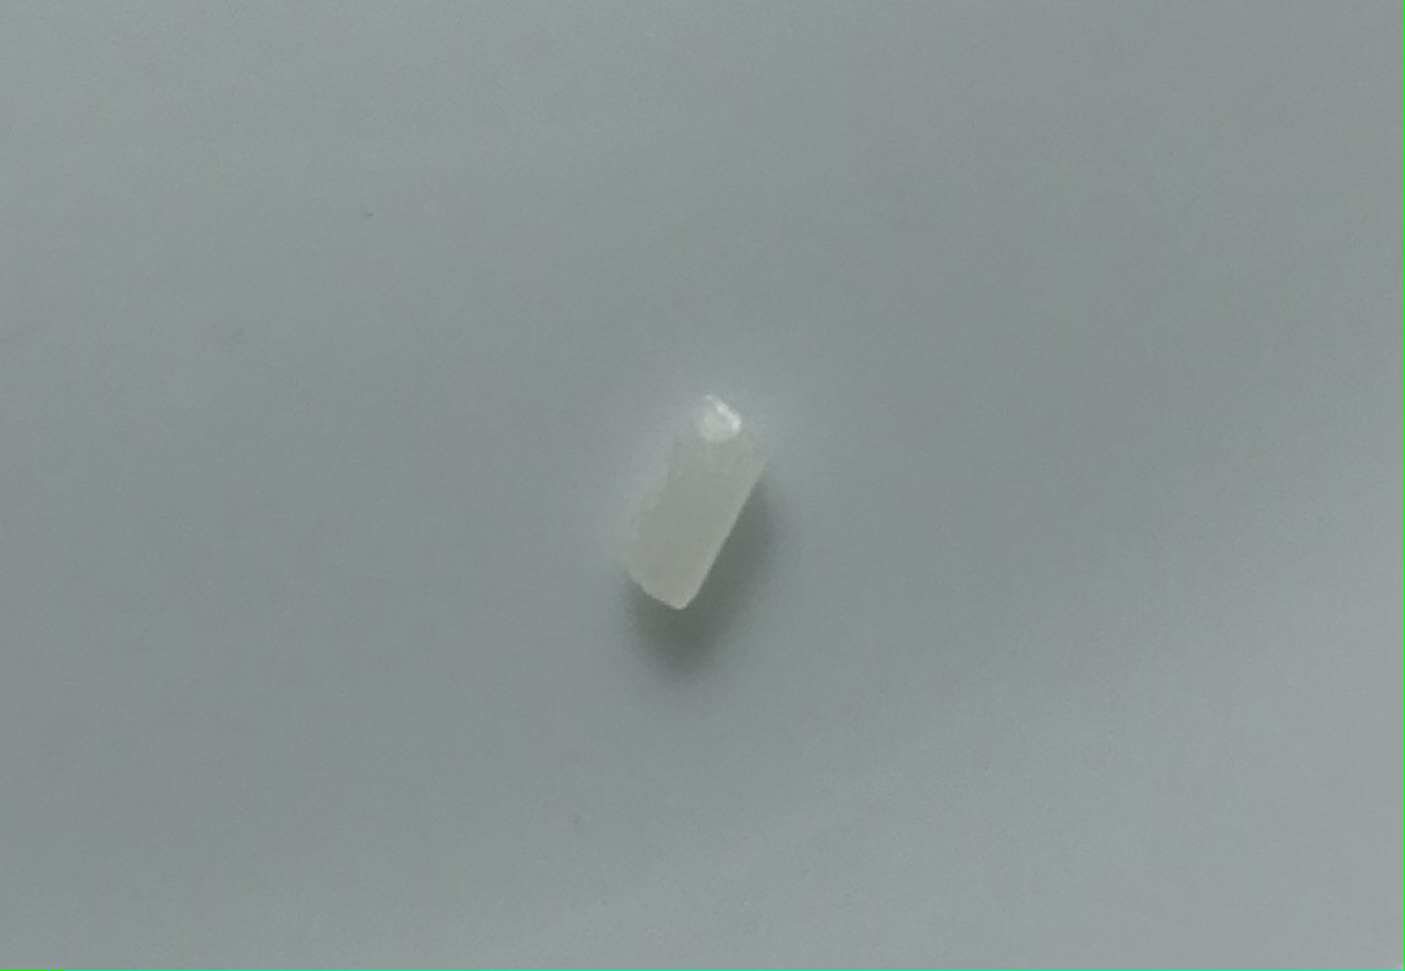Gao Tam: (619, 370, 768, 629)
